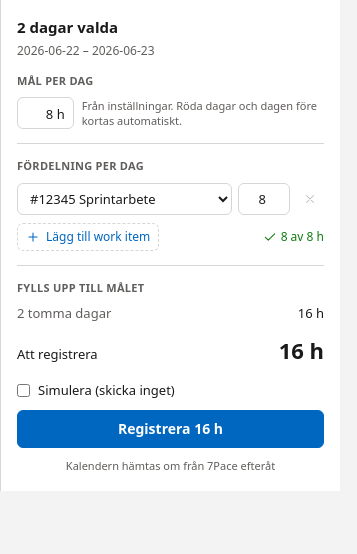
Test: SelectionPanel › says nothing was registered when the server refuses on a stale read
What coordinates should you click on to do the following:
click the button "Registrera 16 h"
I would click on:
 (170, 429)
Its box is [17,410,324,448].
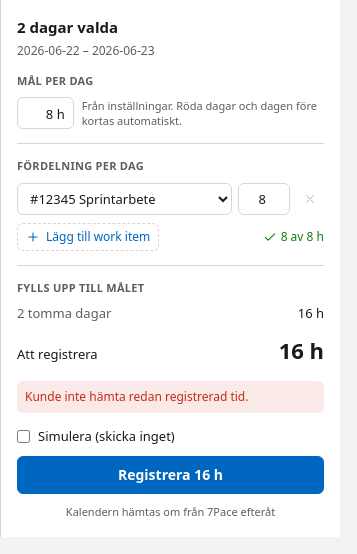
Result: the text "Kunde inte hämta redan registrerad tid." is shown at [17,380,324,412]
Result: the message shows "Kunde inte hämta redan registrerad tid" at [25,388,248,404]
